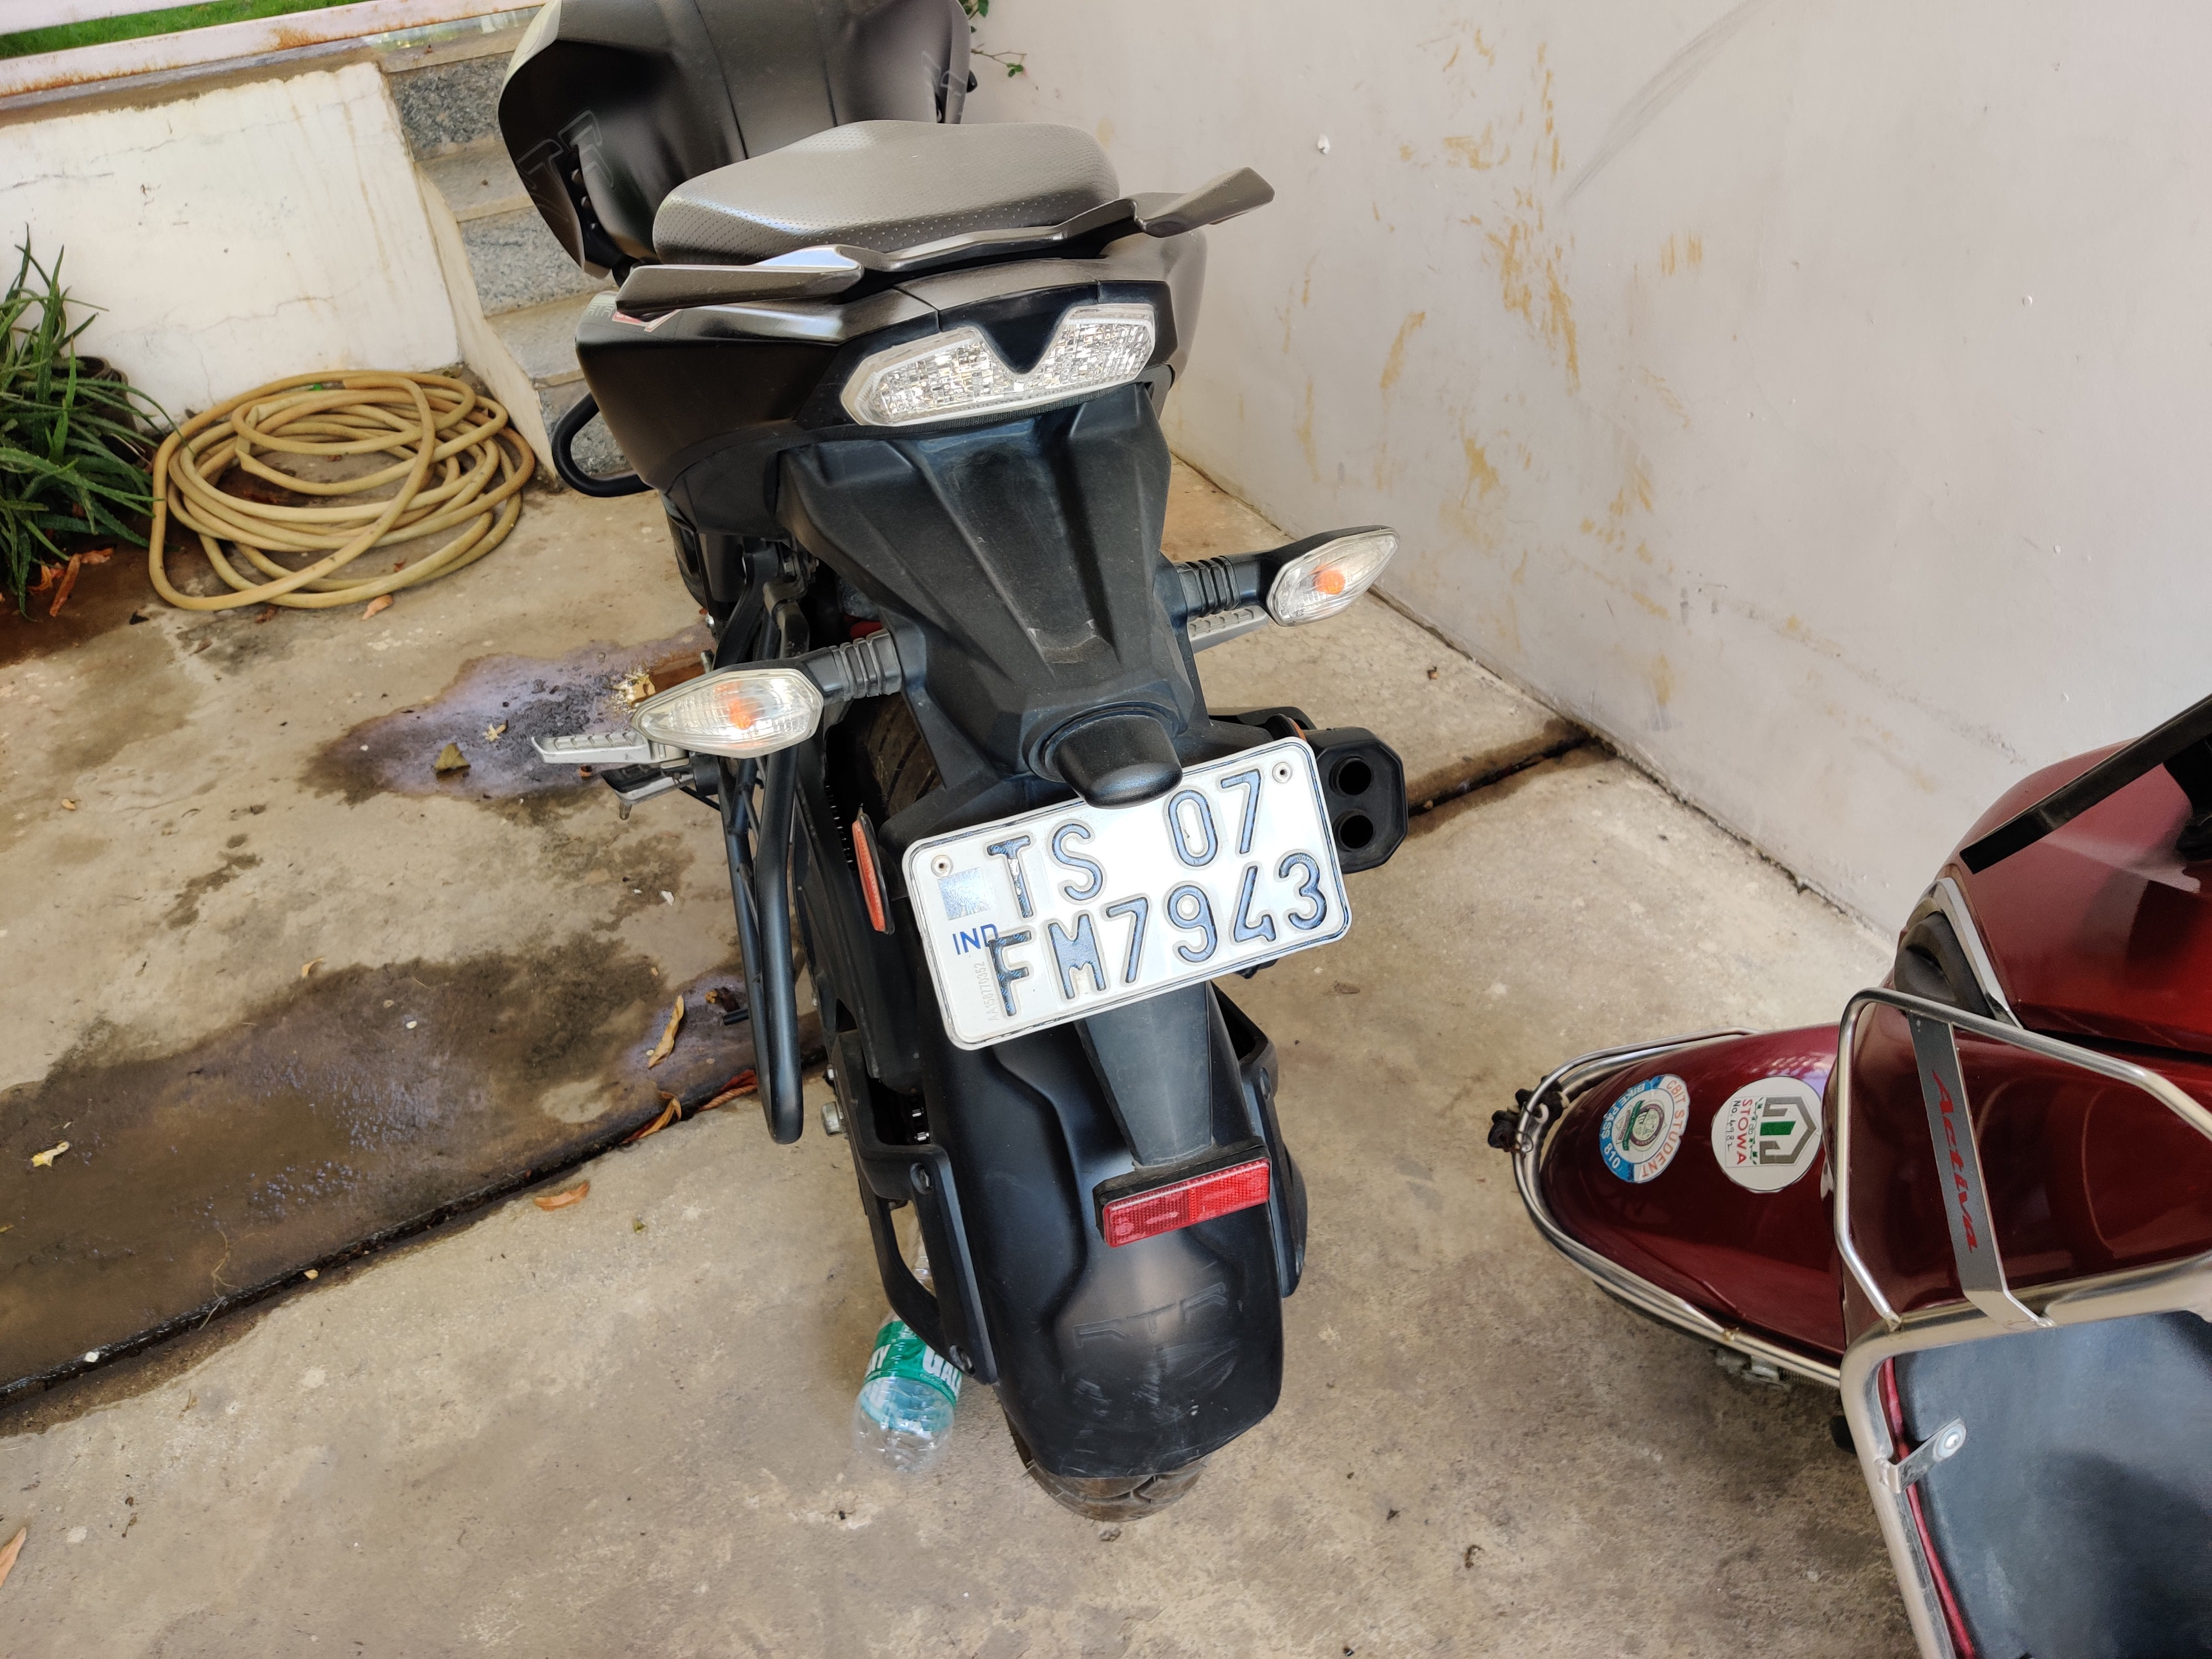plate: (871, 726, 1373, 1052)
